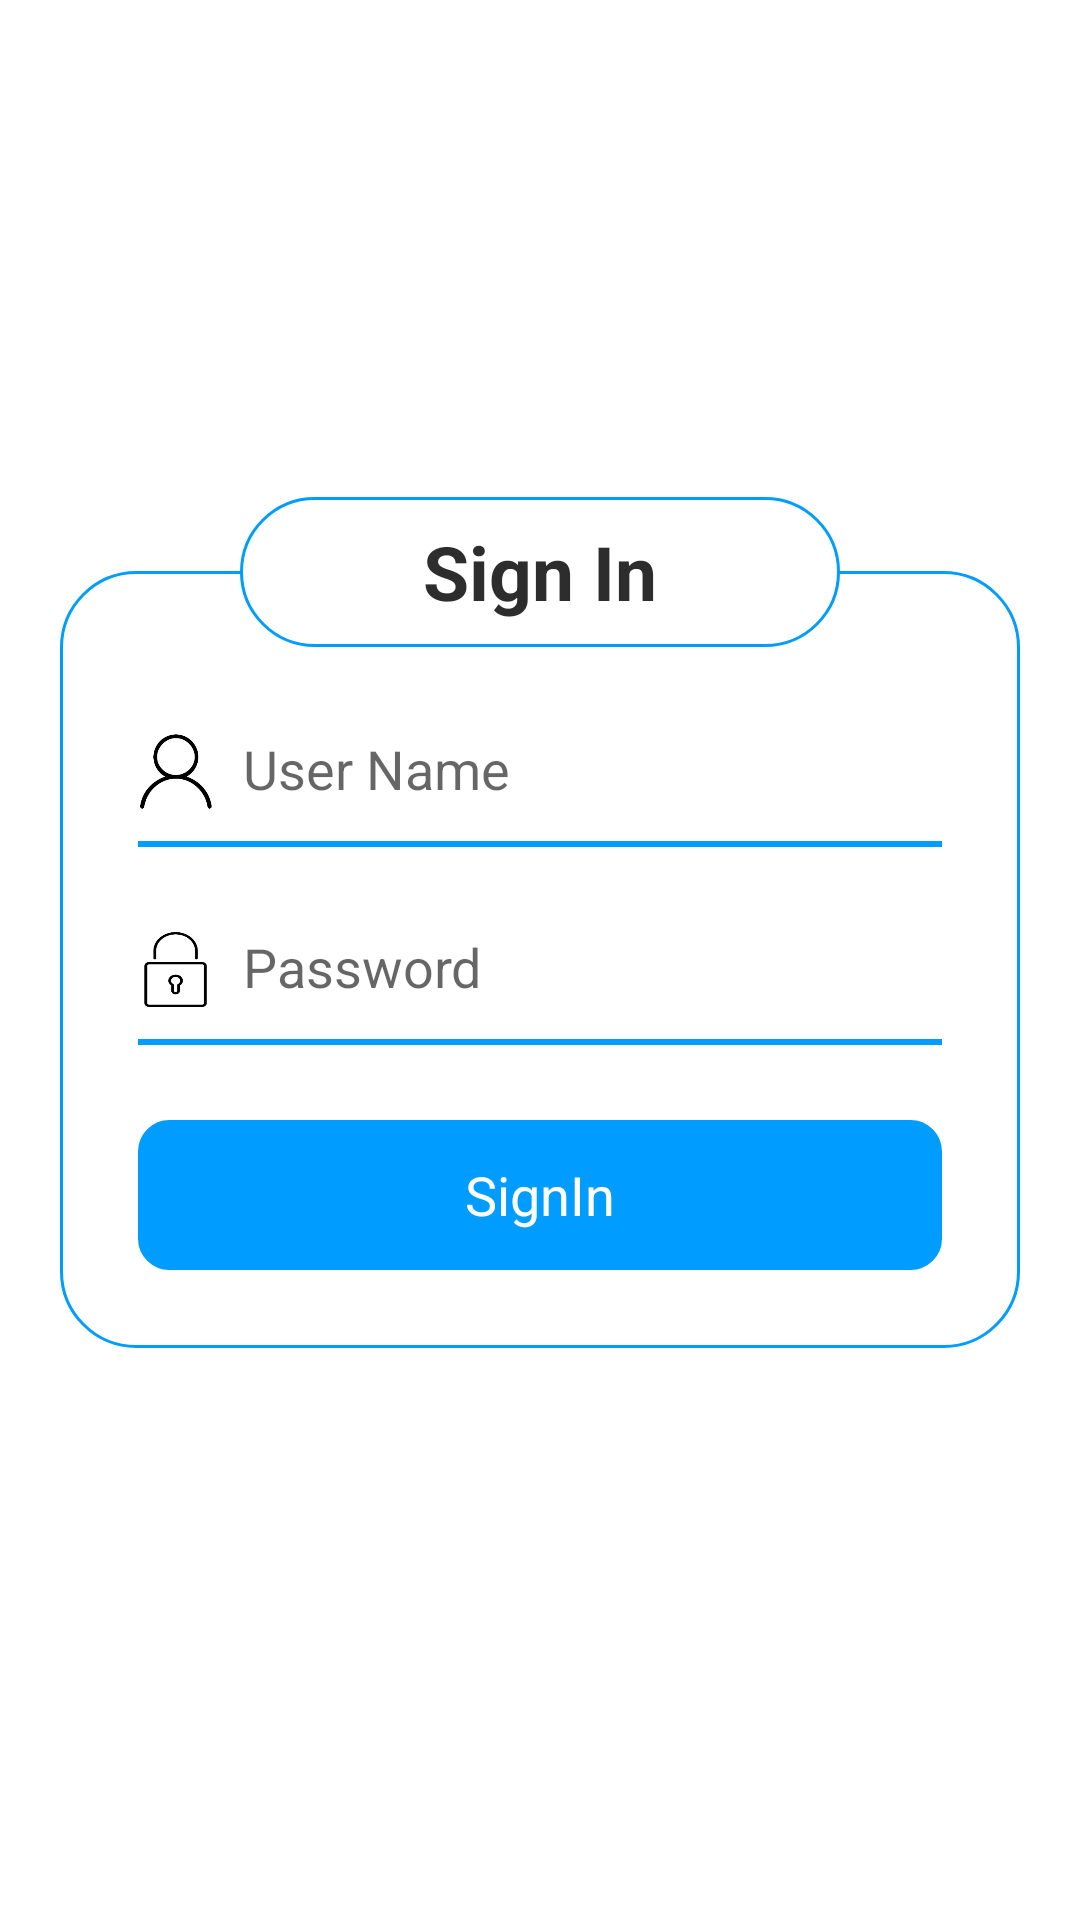

Point at icon controls on the screen. Image size 1080*1920, points as (x=x, y=y).
userprofile: (x=176, y=771)
